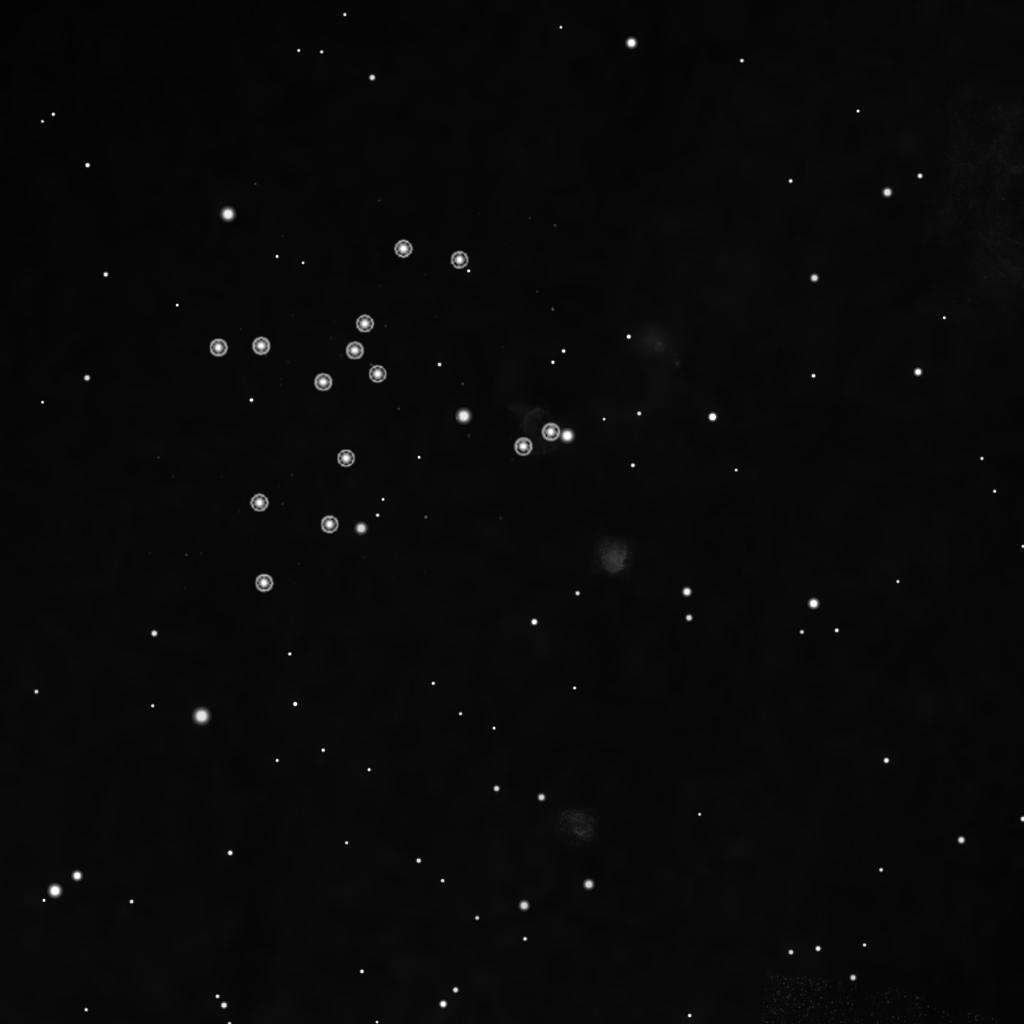canis_major: (308, 235, 474, 398)
